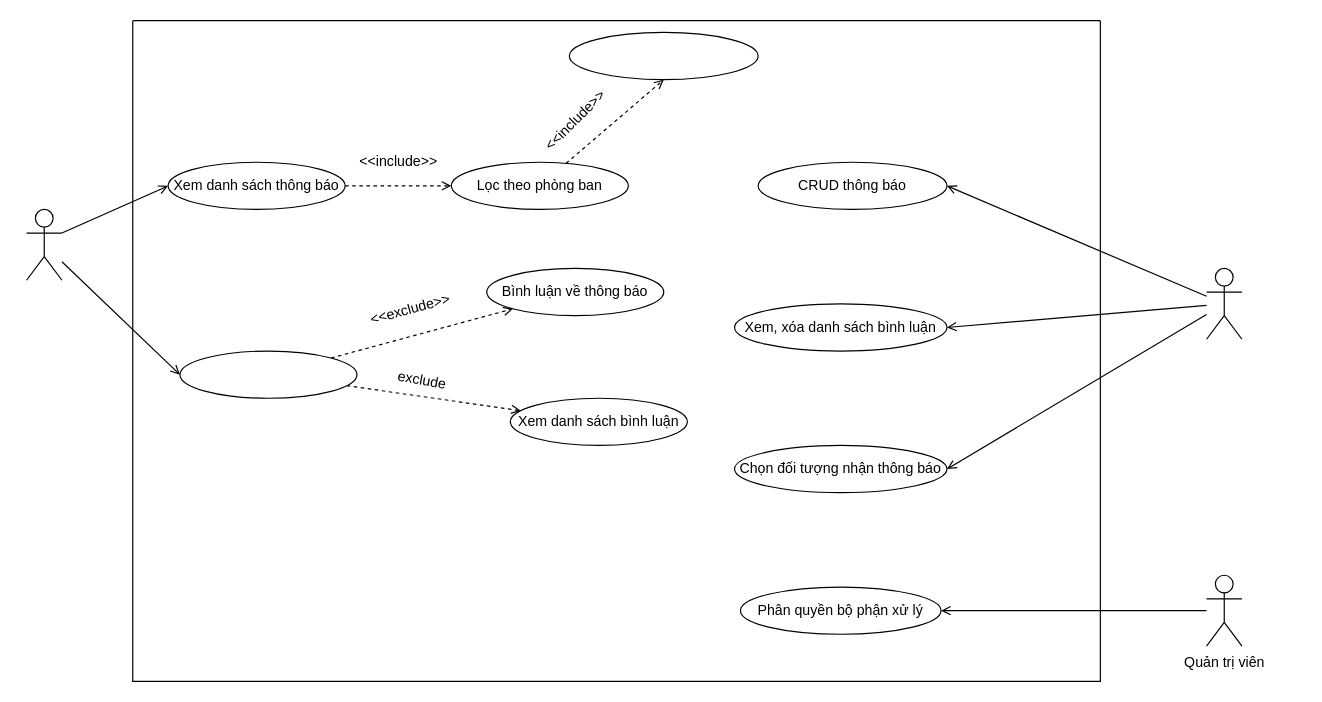
Image size: 1322x702. Some labels were removed from this diagram. Here are the shapes that lost their labels. From the top down, the box of each, then its label:
(568, 31, 758, 80): Lấy danh sách bộ phận xử lý
(25, 208, 62, 280): Cư dân
(1205, 267, 1242, 339): Bộ phận xử lý thông báo
(179, 350, 357, 398): Xem nội dung thông báo
